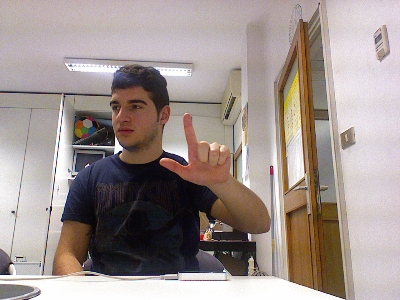枪: (157, 112, 231, 187)
